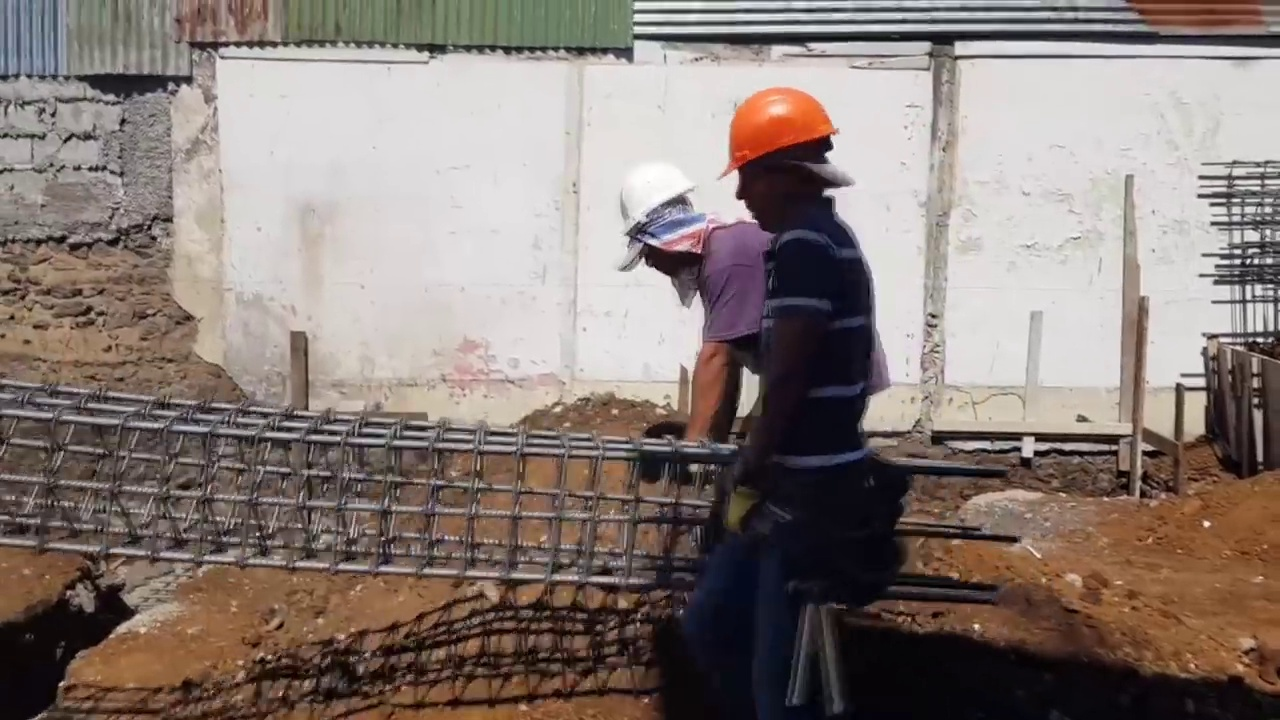helmet: (718, 91, 843, 174), (618, 154, 696, 240)
helmet-on: (720, 98, 847, 239), (619, 152, 719, 283)
person: (699, 93, 895, 708), (615, 153, 778, 469)
